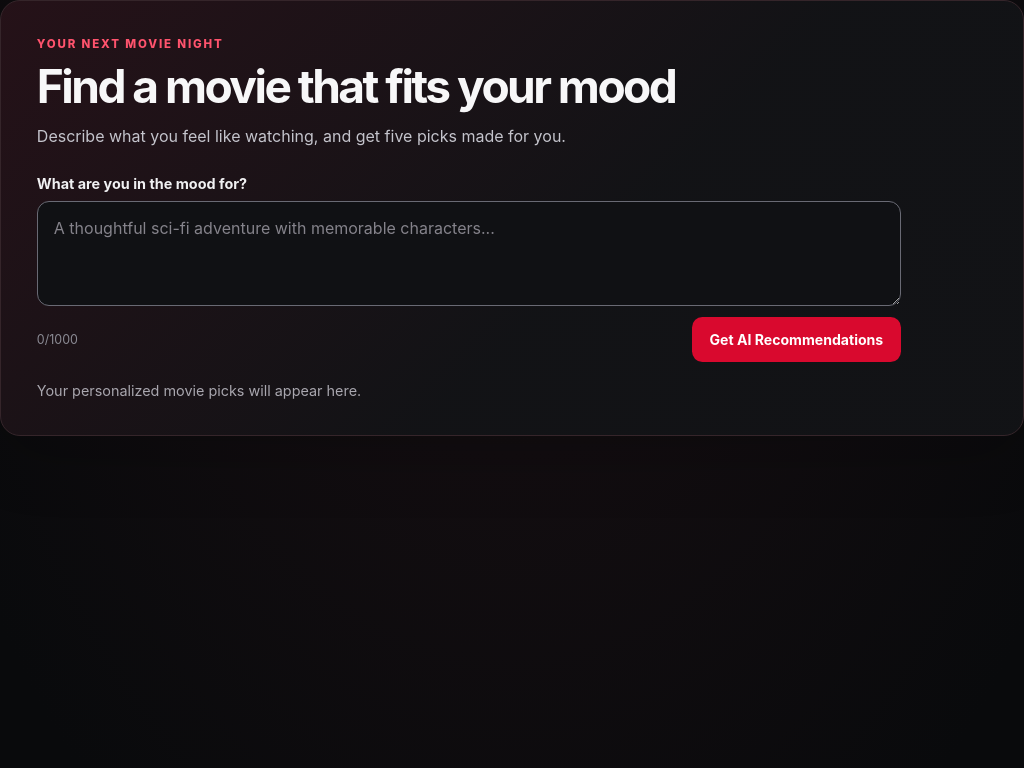
Scenario: AIRecommendationSection › shows the API error message
The image size is (1024, 768).
Step 1. Type "a warm comedy" into the text box labelled "What are you in the mood for?" → (469, 254), box [37,201,901,306]
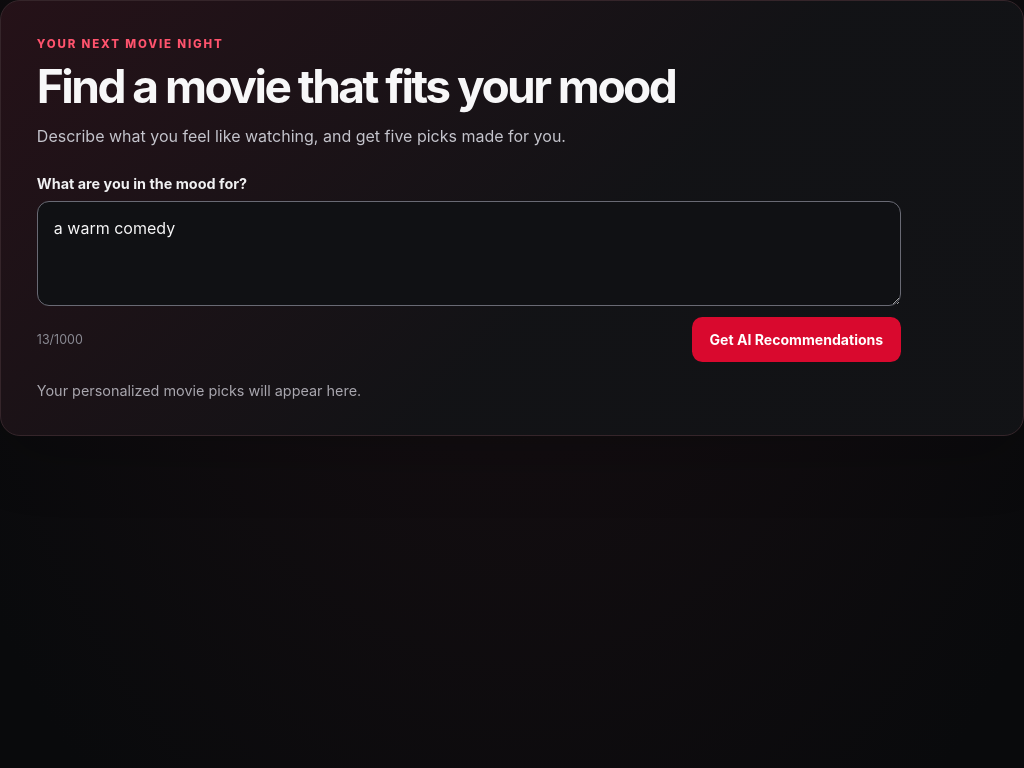
Step 2. Click the button "Get AI Recommendations" → (796, 339), box [692,316,901,362]
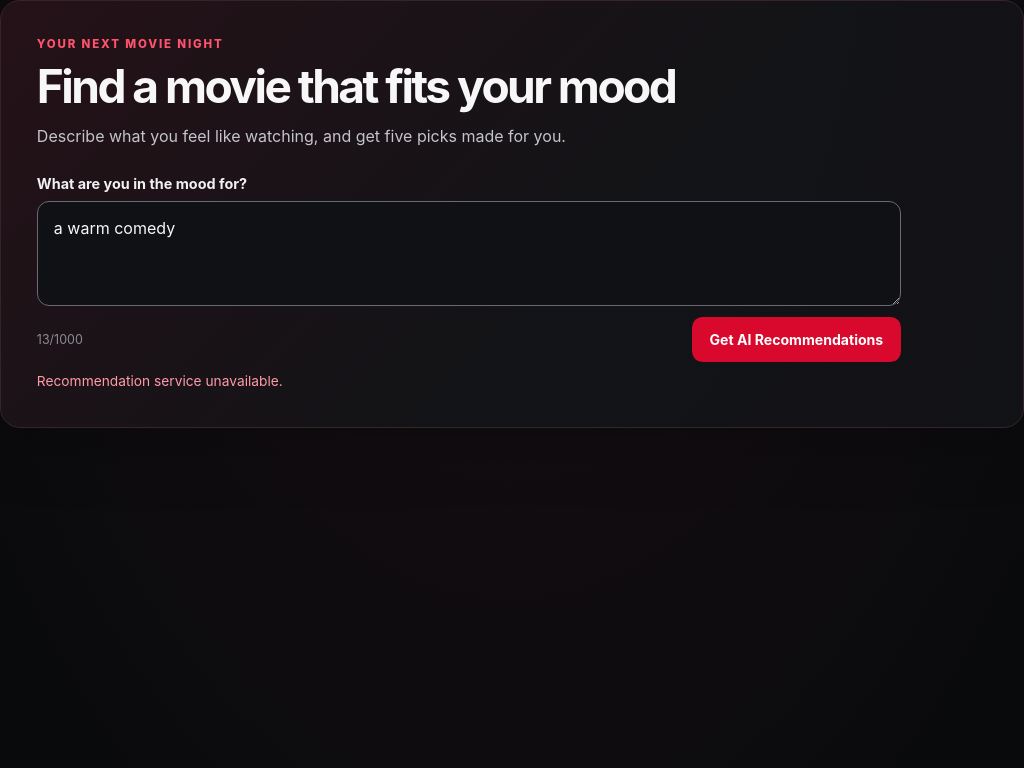
expect the message reads "Recommendation service unavailable.": met, box [37,373,283,389]
